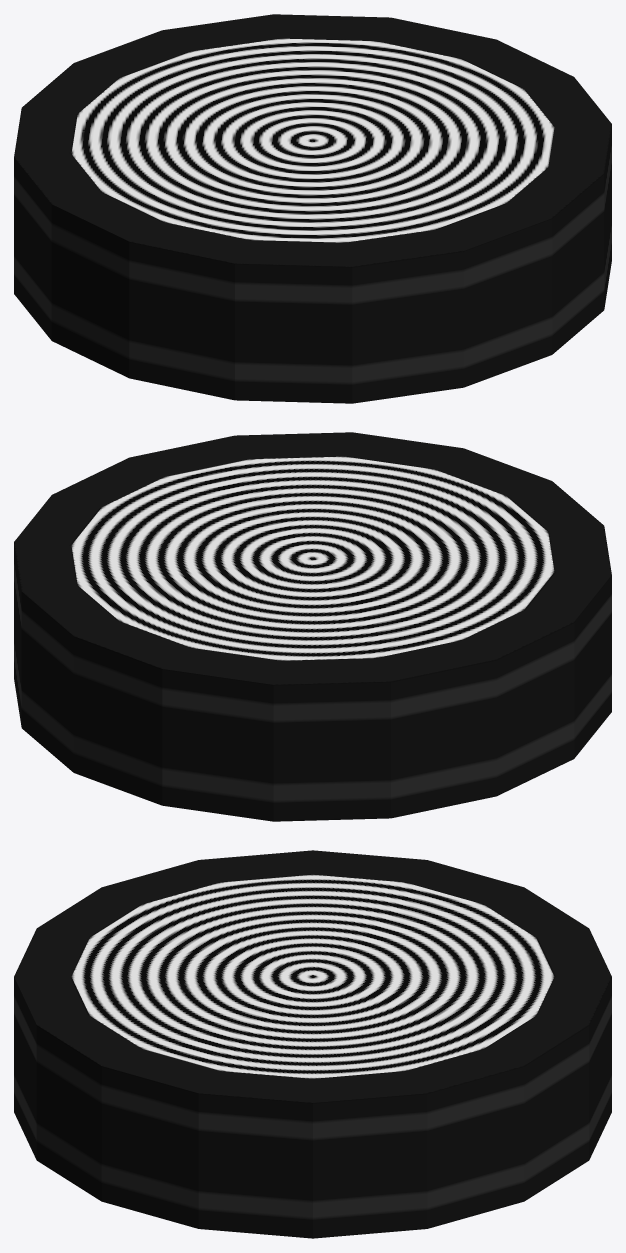
File: Wheel.glb
The picture shows the model from 3 angles, top to bottom: view 1: azimuth 30°, elevation 25°; view 2: azimuth 150°, elevation 25°; view 3: azimuth 270°, elevation 25°; orthographic projection.
Visible parts, largest first — view 1: Cylinder; view 2: Cylinder; view 3: Cylinder.
Boxes of the visible parts, x1,y1,x2,y2 form: Cylinder: (14,14,611,403); Cylinder: (14,432,611,821); Cylinder: (14,850,611,1238).
Size of the model in its own units: 2 by 0.5 by 2.
Materials: 1 (1 with a texture image).
